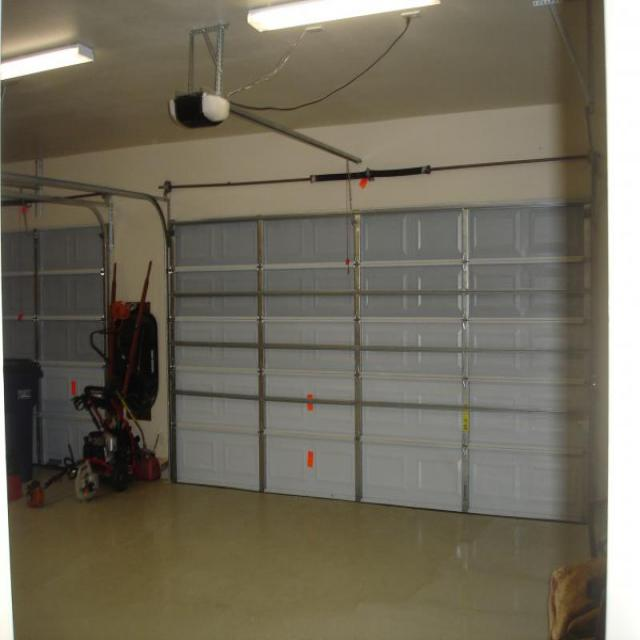electric door: (170, 198, 588, 523), (2, 224, 106, 470)
floor -X: (1, 459, 604, 638)
lamp occluded: (246, 0, 438, 33), (1, 38, 94, 83)
machines: (75, 382, 140, 500)
motor: (168, 22, 227, 127)
wall clock: (1, 100, 590, 481), (586, 0, 639, 637)
wheelbarrow: (93, 275, 159, 412)
